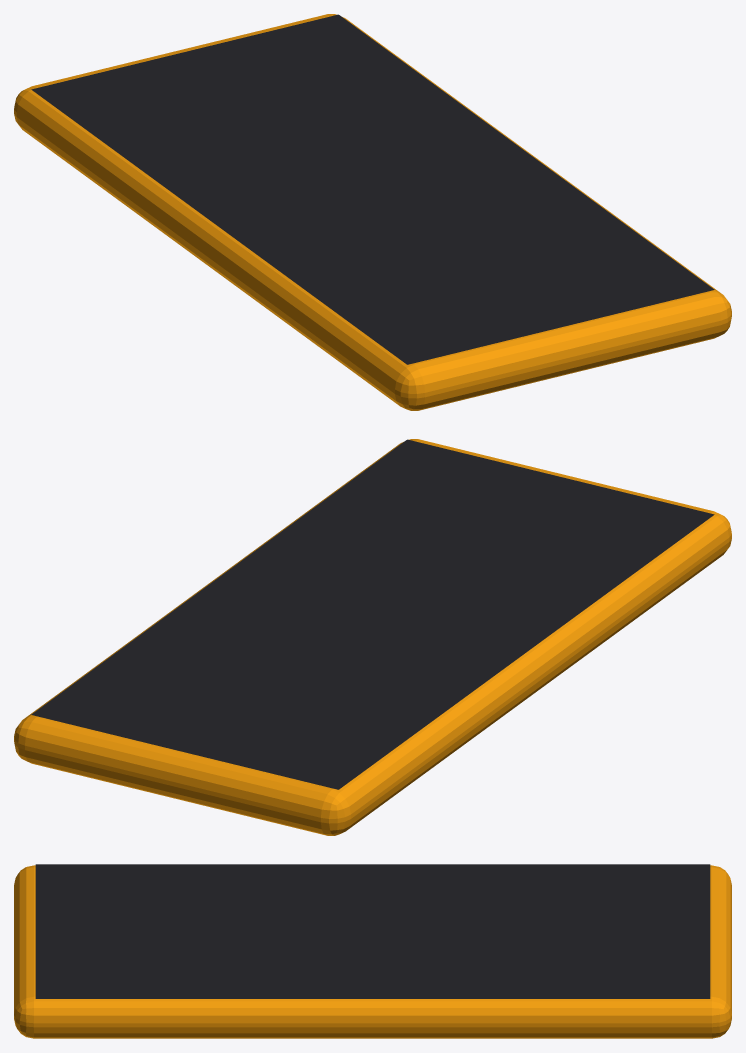
Rendered from infinix-gen-2025-mid-range-2025.glb.
3 renders of one model, top to bottom at view 1: azimuth 30°, elevation 25°; view 2: azimuth 150°, elevation 25°; view 3: azimuth 270°, elevation 25°, orthographic. The views are drawn at different scales.
Visible parts, largest first — view 1: Phone_Screen, Phone_Body; view 2: Phone_Screen, Phone_Body; view 3: Phone_Screen, Phone_Body.
Part boxes in pixels (left/top/right/bottom): Phone_Screen: left=31, top=14, right=714, bottom=364; Phone_Body: left=14, top=14, right=731, bottom=410; Phone_Screen: left=31, top=439, right=714, bottom=789; Phone_Body: left=14, top=439, right=731, bottom=835; Phone_Screen: left=35, top=864, right=710, bottom=998; Phone_Body: left=14, top=865, right=731, bottom=1038.
Size of the model in its own units: 0.0706 by 0.0091 by 0.1464.
